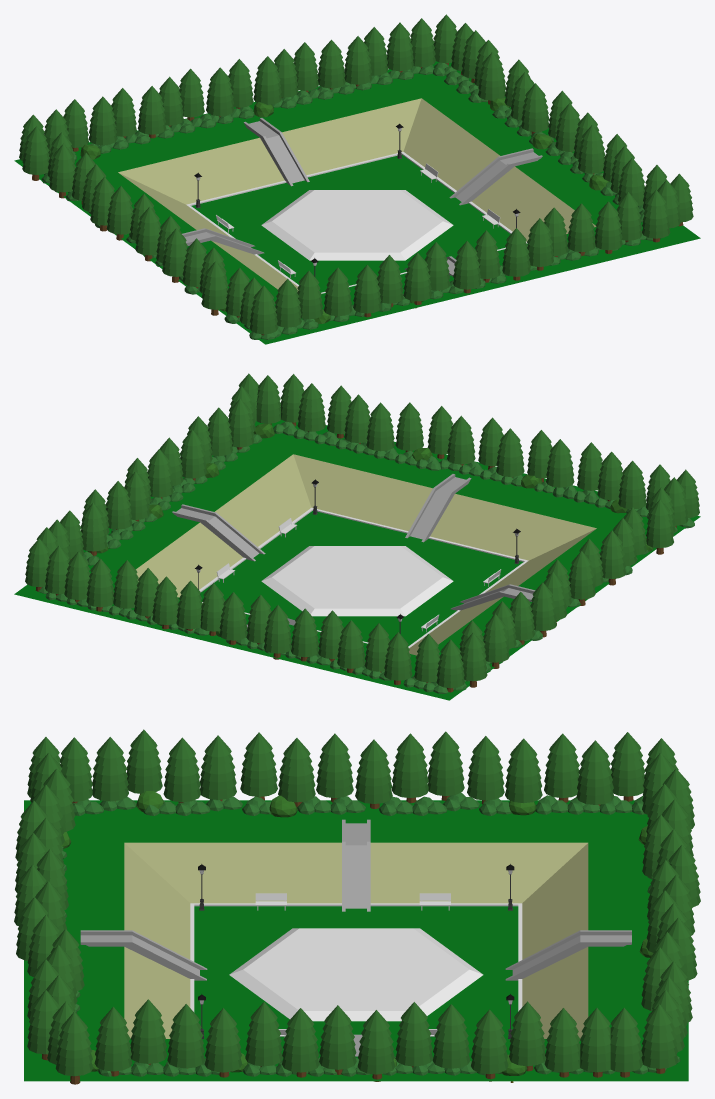
File: Arena0.1.fbx
3 renders of one model, top to bottom at view 1: azimuth 30°, elevation 25°; view 2: azimuth 150°, elevation 25°; view 3: azimuth 270°, elevation 25°, orthographic. The views are drawn at different scales.
Visible parts, largest first — view 1: Cube, Cylinder, Cube.005, Cube.004, Tree3.020, Tree3.032, Tree3.031, Tree3.023, Tree3.030, Tree3.027, Tree3.005, Tree3.024 (+54 smaller); view 2: Cube, Cylinder, Cube.006, Cube.004, Tree3.066, Tree3.009, Tree3.003, Tree3.010, Tree3.1, Tree3.007, Tree3.006, Tree3.013 (+53 smaller); view 3: Cube, Cylinder, Cube.003, Cube.006, Cube.005, Tree3.026, Tree3.045, Tree3.044, Tree3.047, Tree3.051, Tree3.060, Tree3.040 (+58 smaller).
Part boxes in pixels (bbox=[...]): Cube: bbox=[14, 61, 700, 344]; Cylinder: bbox=[261, 190, 453, 260]; Cube.005: bbox=[243, 118, 309, 186]; Cube.004: bbox=[449, 148, 542, 205]; Tree3.020: bbox=[502, 228, 530, 280]; Tree3.032: bbox=[353, 264, 381, 317]; Tree3.031: bbox=[403, 252, 431, 304]; Tree3.023: bbox=[595, 201, 622, 253]; Tree3.030: bbox=[453, 241, 481, 293]; Tree3.027: bbox=[642, 190, 670, 242]; Tree3.005: bbox=[137, 86, 166, 138]; Tree3.024: bbox=[567, 203, 595, 255]; Cube: bbox=[14, 419, 700, 700]; Cylinder: bbox=[261, 546, 453, 616]; Cube.006: bbox=[405, 474, 471, 542]; Cube.004: bbox=[172, 504, 265, 561]; Tree3.066: bbox=[646, 499, 673, 554]; Tree3.009: bbox=[263, 605, 291, 659]; Tree3.003: bbox=[384, 632, 412, 684]; Tree3.010: bbox=[219, 592, 247, 644]; Tree3.1: bbox=[436, 639, 464, 692]; Tree3.007: bbox=[291, 608, 318, 661]; Tree3.006: bbox=[337, 620, 365, 672]; Tree3.013: bbox=[86, 558, 113, 611]; Cube: bbox=[24, 800, 688, 1081]; Cylinder: bbox=[229, 928, 483, 1021]; Cube.003: bbox=[342, 819, 370, 911]; Cube.006: bbox=[80, 930, 207, 980]; Cube.005: bbox=[505, 930, 631, 980]; Tree3.026: bbox=[55, 1011, 93, 1084]; Tree3.045: bbox=[357, 1010, 395, 1081]; Tree3.044: bbox=[281, 1008, 319, 1077]; Tree3.047: bbox=[391, 733, 428, 803]; Tree3.051: bbox=[471, 1009, 508, 1081]; Tree3.060: bbox=[355, 739, 392, 808]; Tree3.040: bbox=[204, 1008, 242, 1077].
Size of the model in its own units: 14222 by 2395 by 13847.
